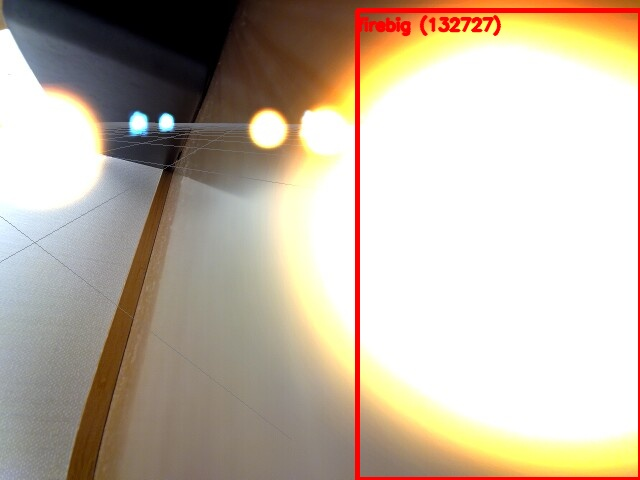firebig: (357, 10, 640, 479)
